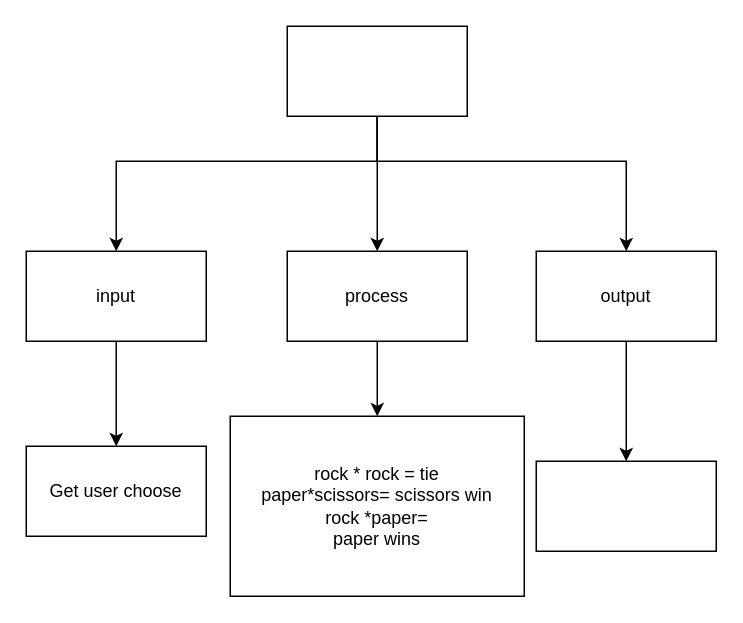
The diagram is 743 pixels wide and 623 high, and some of its shapes have lost their labels. Here are the shapes that lost their labels. From the top down, the centre of each, then its label:
At (x=376, y=70): "rock ,scissors,paper".
At (x=625, y=505): "tell them if you win or tie or lose".
